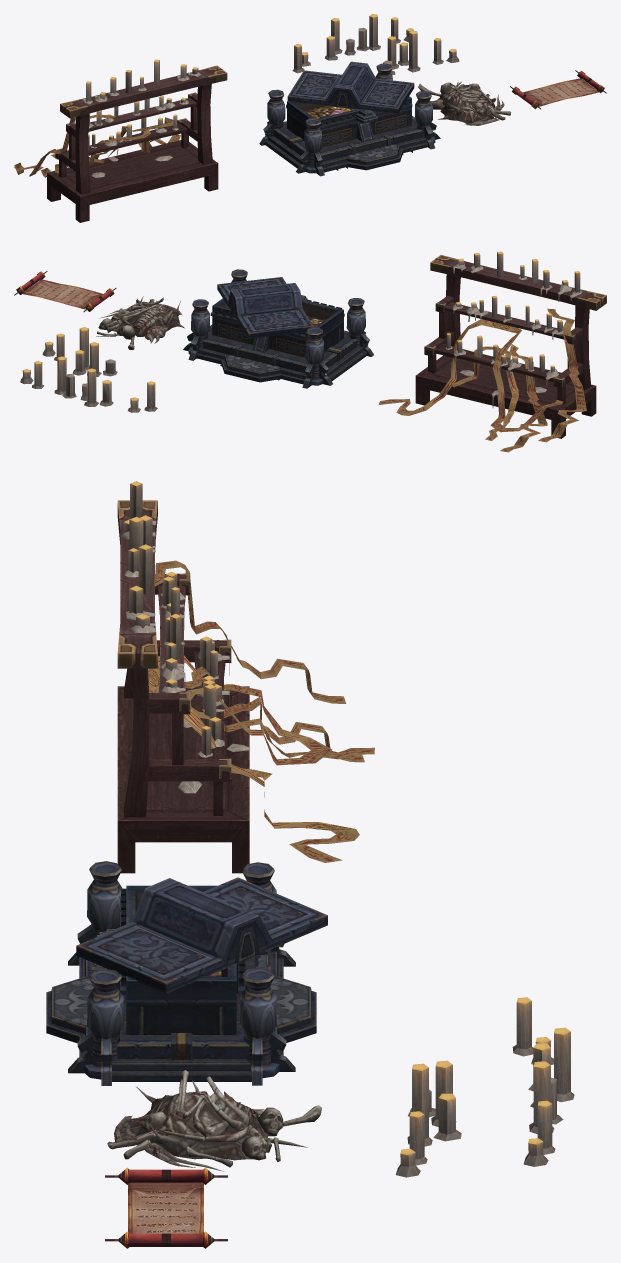
Rendered from 2_BTT_DiBiaoXiaoZaWu_01.FBX.
3 renders of one model, top to bottom at view 1: azimuth 30°, elevation 25°; view 2: azimuth 150°, elevation 25°; view 3: azimuth 270°, elevation 25°, orthographic. The views are drawn at different scales.
Parts seen in each view (by area): view 1: 2_BTT_ZhuTai_01, 2_BTT_JuDaBaoXiang_01, 2_BTT_ShiGuDui_01, 2_BTT_LaZhu_01, 2_BTT_PiaoDai_01, 2_BTT_JuanZhou_01, 2_BTT_LaZhu_01_02, 2_BTT_LaZhu_01_03; view 2: 2_BTT_ZhuTai_01, 2_BTT_JuDaBaoXiang_01, 2_BTT_PiaoDai_01, 2_BTT_ShiGuDui_01, 2_BTT_LaZhu_01, 2_BTT_JuanZhou_01, 2_BTT_LaZhu_01_02, 2_BTT_LaZhu_01_03; view 3: 2_BTT_JuDaBaoXiang_01, 2_BTT_ZhuTai_01, 2_BTT_ShiGuDui_01, 2_BTT_PiaoDai_01, 2_BTT_JuanZhou_01, 2_BTT_LaZhu_01, 2_BTT_LaZhu_01_02, 2_BTT_LaZhu_01_03.
Boxes of the visible parts, x1,y1,x2,y2 form: 2_BTT_ZhuTai_01: (47,59,227,222); 2_BTT_JuDaBaoXiang_01: (259,61,440,176); 2_BTT_ShiGuDui_01: (418,81,511,125); 2_BTT_LaZhu_01: (292,14,413,73); 2_BTT_PiaoDai_01: (14,114,180,177); 2_BTT_JuanZhou_01: (510,70,606,109); 2_BTT_LaZhu_01_02: (383,30,420,75); 2_BTT_LaZhu_01_03: (432,38,459,64); 2_BTT_ZhuTai_01: (415,251,606,438); 2_BTT_JuDaBaoXiang_01: (183,269,373,388); 2_BTT_PiaoDai_01: (378,308,586,452); 2_BTT_ShiGuDui_01: (96,296,184,349); 2_BTT_LaZhu_01: (20,356,157,412); 2_BTT_JuanZhou_01: (14,271,116,312); 2_BTT_LaZhu_01_02: (72,327,117,376); 2_BTT_LaZhu_01_03: (42,333,64,360); 2_BTT_JuDaBaoXiang_01: (46,861,327,1085); 2_BTT_ZhuTai_01: (117,481,249,873); 2_BTT_ShiGuDui_01: (107,1070,321,1171); 2_BTT_PiaoDai_01: (148,560,374,862); 2_BTT_JuanZhou_01: (105,1167,227,1248); 2_BTT_LaZhu_01: (512,997,574,1166); 2_BTT_LaZhu_01_02: (407,1060,461,1146); 2_BTT_LaZhu_01_03: (395,1111,427,1177).
Size of the model in its own units: 1772 by 429 by 735.
